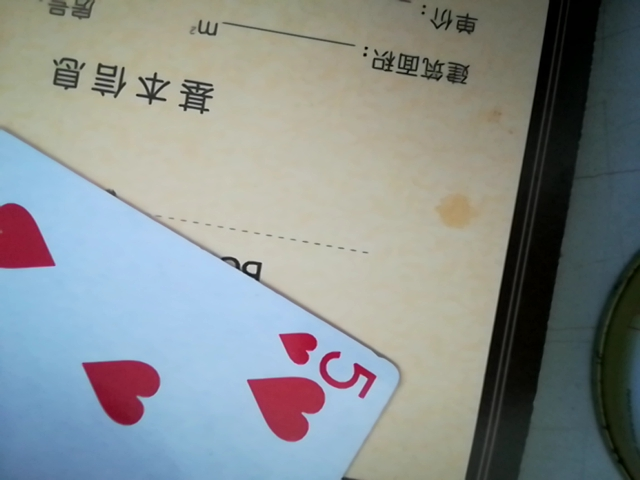hx 5: (0, 97, 410, 480)
